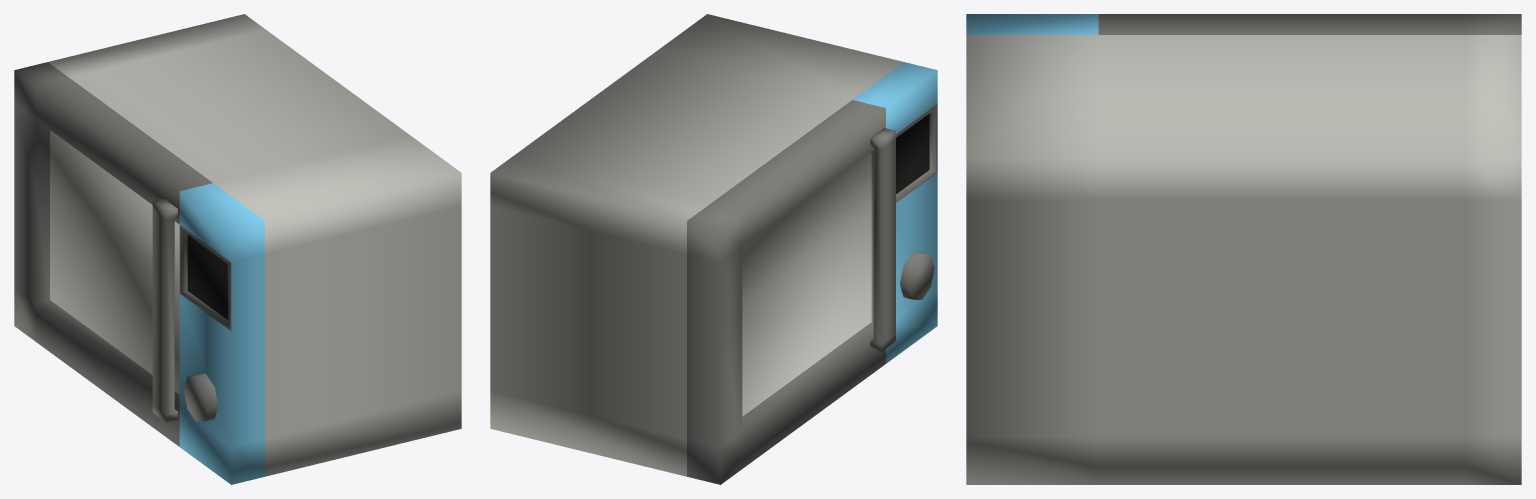
The model's file is Microwave.fbx.
3 renders of one model, left to right at view 1: azimuth 30°, elevation 25°; view 2: azimuth 150°, elevation 25°; view 3: azimuth 270°, elevation 25°, orthographic. The views are drawn at different scales.
Parts seen in each view (by area): view 1: Cube.8183; view 2: Cube.8183; view 3: Cube.8183.
Part boxes in pixels (x1,y1,x2,y2): Cube.8183: (14, 14, 461, 484); Cube.8183: (490, 14, 937, 484); Cube.8183: (966, 14, 1521, 484).
Size of the model in its own units: 58.12 by 58.72 by 90.34.
Materials: 1 (1 with a texture image).
